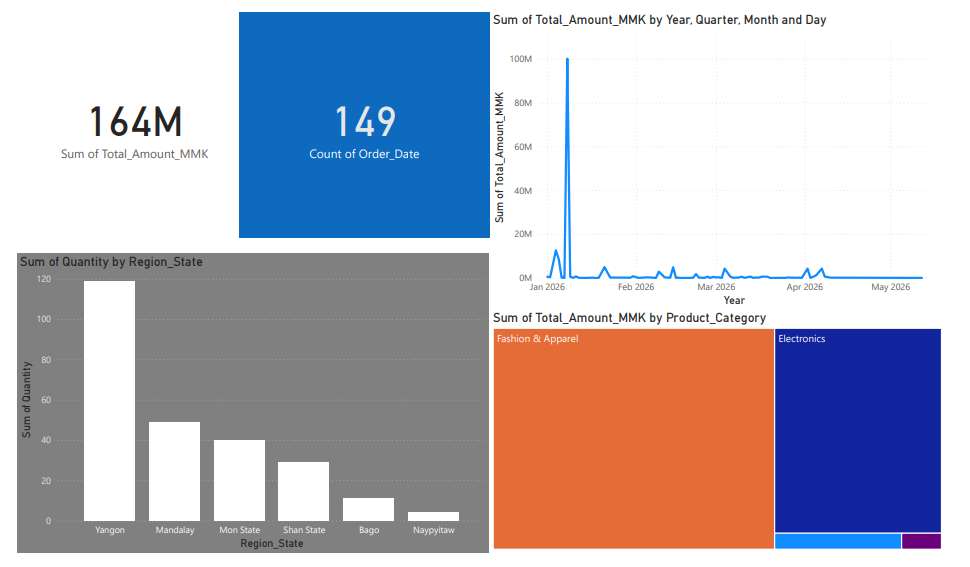

This screenshot's page, from the dashboard's own definition file:
{"tool":"powerbi","page":{"name":"Page 1","canvas":[1280,720],"ordinal":0},"visuals":[{"type":"card","fields":{"Values":["Sum(Raw_Sales_Data.Total_Amount_MMK)"]},"box":[10,0,315,300],"z":0},{"type":"lineClusteredColumnComboChart","fields":{"Y":["Sum(Raw_Sales_Data.Quantity)"],"Category":["Raw_Sales_Data.Region_State"]},"box":[10,321.7,630,398.3],"z":1000},{"type":"lineChart","fields":{"Y":["Sum(Raw_Sales_Data.Total_Amount_MMK)"],"Category":["Raw_Sales_Data.Order_Date.Variation.Date Hierarchy.Year","Raw_Sales_Data.Order_Date.Variation.Date Hierarchy.Quarter","Raw_Sales_Data.Order_Date.Variation.Date Hierarchy.Month","Raw_Sales_Data.Order_Date.Variation.Date Hierarchy.Day"]},"box":[640,0,606.7,396.7],"z":2000},{"type":"card","title":"Total Orders","fields":{"Values":["CountNonNull(Raw_Sales_Data.Order_Date)"]},"box":[306.7,0,333.3,300],"z":3000},{"type":"treemap","fields":{"Group":["Raw_Sales_Data.Product_Category"],"Values":["Sum(Raw_Sales_Data.Total_Amount_MMK)"]},"box":[640,397,607,323],"z":4000}]}

Visuals, with their boxes on the page's 1280x720 design canvas (x1, y1, x2, y2). These are canvas units, not pixel positions in the 970x567 screenshot, which may show the page scaled, cropped or inside an application window:
card - Sum(Raw_Sales_Data.Total_Amount_MMK): (x1=10, y1=0, x2=325, y2=300)
lineClusteredColumnComboChart - Sum(Raw_Sales_Data.Quantity) x Raw_Sales_Data.Region_State: (x1=10, y1=322, x2=640, y2=720)
lineChart - Sum(Raw_Sales_Data.Total_Amount_MMK) x Raw_Sales_Data.Order_Date.Variation.Date Hierarchy.Year: (x1=640, y1=0, x2=1247, y2=397)
"Total Orders" card: (x1=307, y1=0, x2=640, y2=300)
treemap - Raw_Sales_Data.Product_Category x Sum(Raw_Sales_Data.Total_Amount_MMK): (x1=640, y1=397, x2=1247, y2=720)
